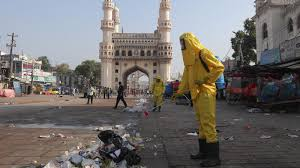mask: (180, 33, 195, 55), (156, 77, 160, 81)
